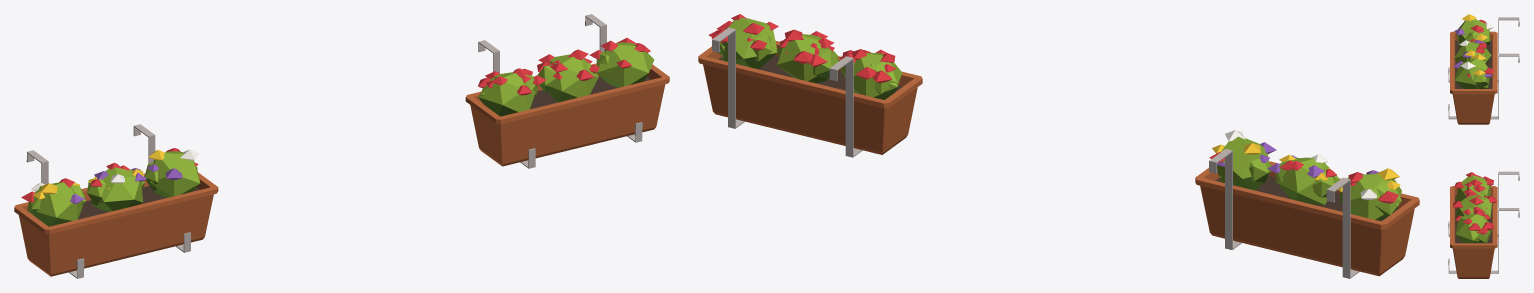
File: SM_Fixture_RailPlanterShort25620_Alu_Flower_01.gltf
The picture shows the model from 3 angles, left to right: view 1: azimuth 30°, elevation 25°; view 2: azimuth 150°, elevation 25°; view 3: azimuth 270°, elevation 25°; orthographic projection. The views are drawn at different scales.
Visible parts, largest first — view 1: SM_Fixture_RailPlanterShort25620_Alu_Flower_01; view 2: SM_Fixture_RailPlanterShort25620_Alu_Flower_01; view 3: SM_Fixture_RailPlanterShort25620_Alu_Flower_01.
Part boxes in pixels (box(x1,y1,x2,y2)): SM_Fixture_RailPlanterShort25620_Alu_Flower_01: box(14, 14, 669, 278); SM_Fixture_RailPlanterShort25620_Alu_Flower_01: box(698, 14, 1419, 278); SM_Fixture_RailPlanterShort25620_Alu_Flower_01: box(1448, 14, 1519, 278).
Size of the model in its own units: 2.34 by 0.3225 by 0.329.
Materials: 1 (1 with a texture image).
